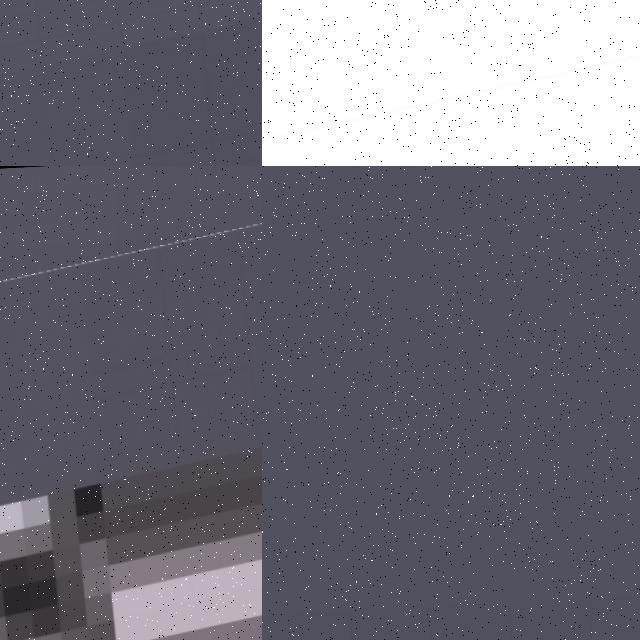0: (0, 200, 262, 640), (0, 0, 262, 166)
drone: (262, 0, 640, 166)
